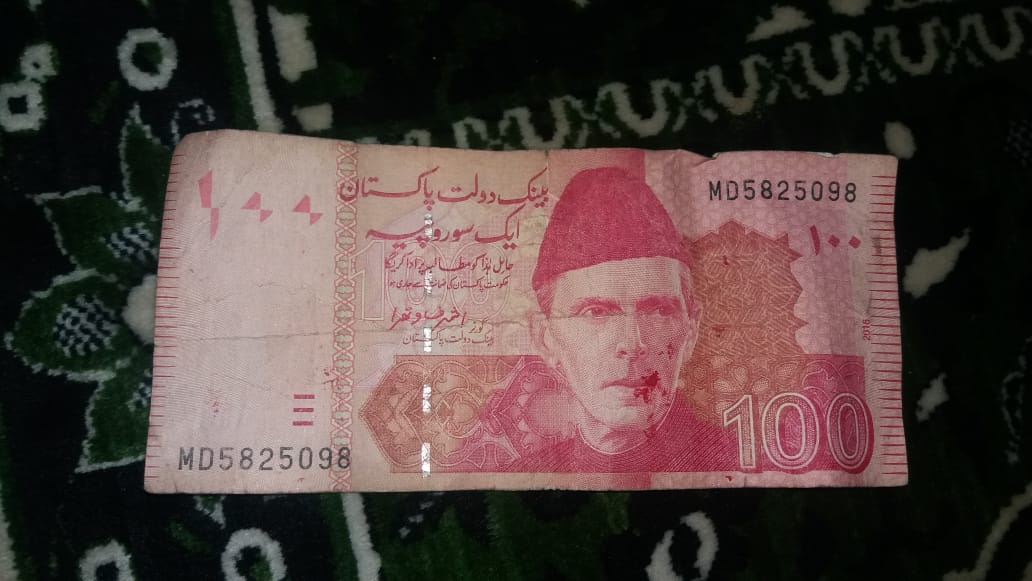100 rupee: (146, 114, 924, 525)
